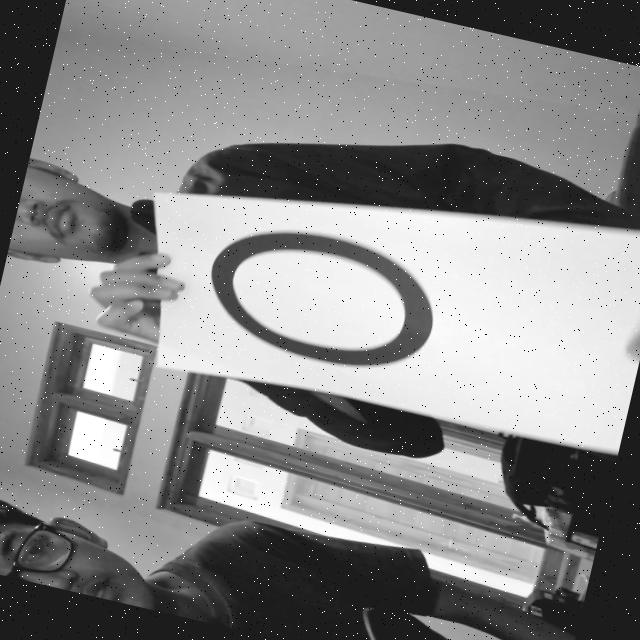o: (187, 201, 449, 383)
